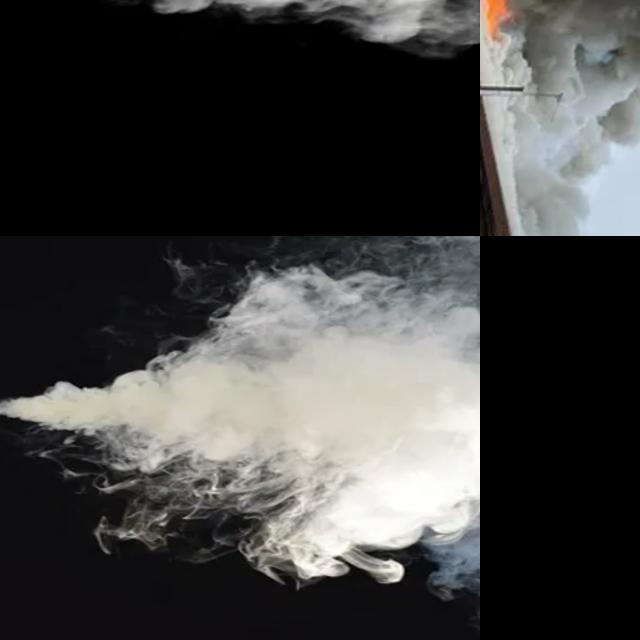smoke: (0, 247, 480, 640), (25, 0, 480, 56), (480, 0, 640, 149)
